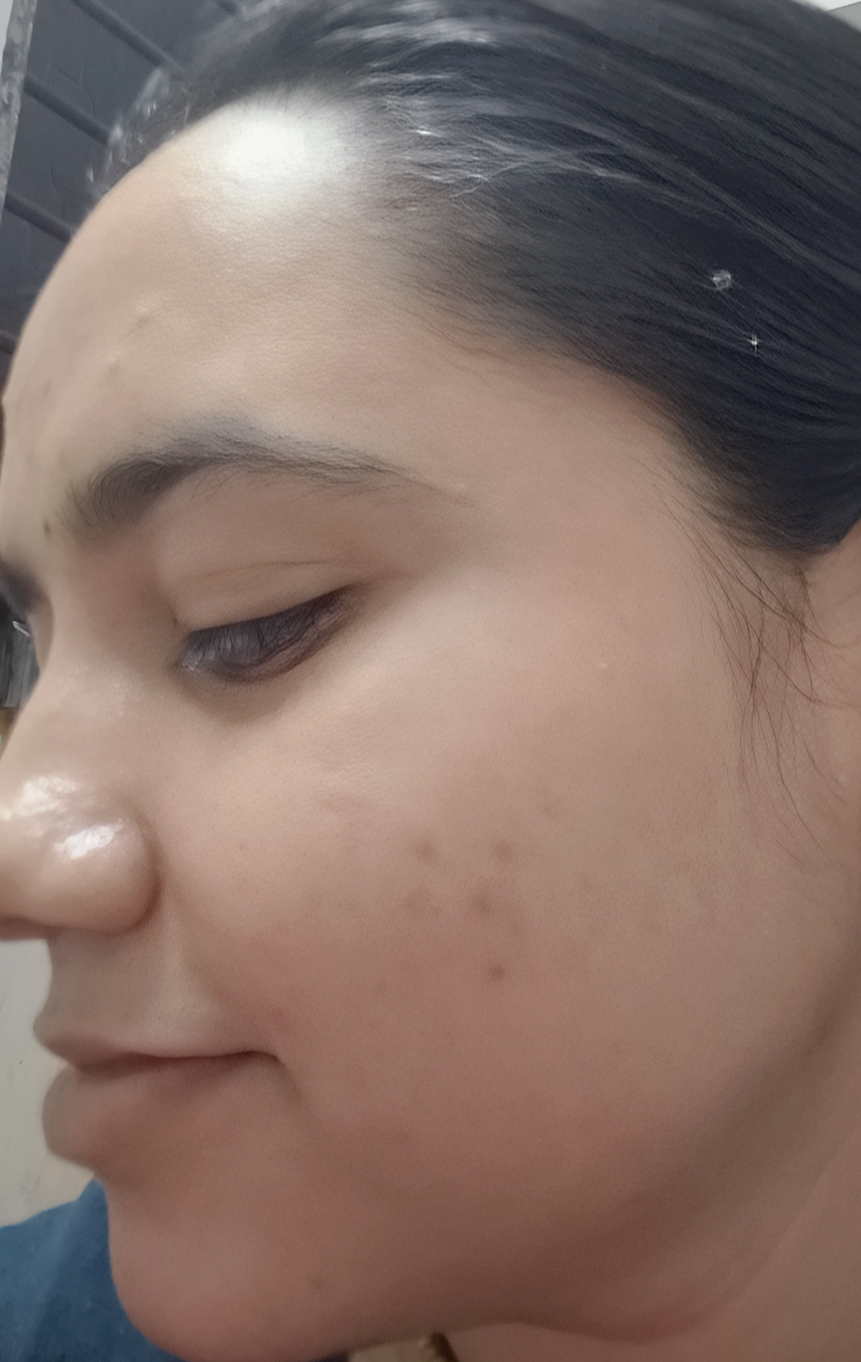papule: (392, 805, 455, 881), (98, 344, 168, 389), (121, 301, 177, 335)
